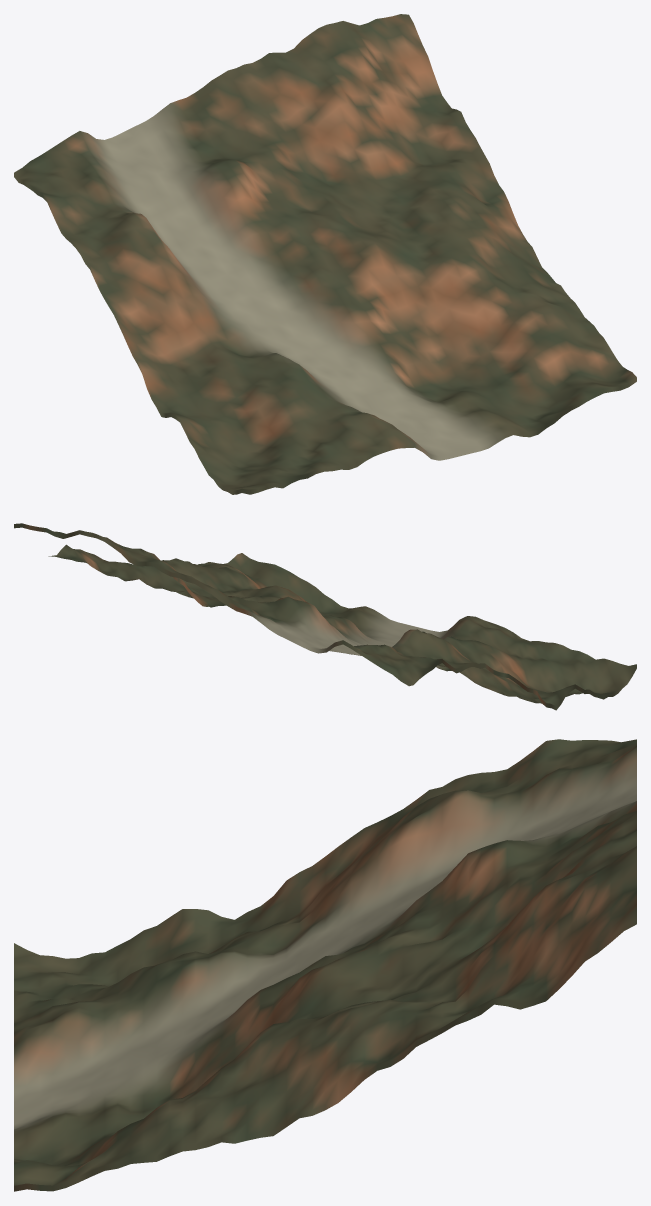
The model's file is terrain-070.glb.
3 views of the same model, one above another, from view 1: azimuth 30°, elevation 25°; view 2: azimuth 150°, elevation 25°; view 3: azimuth 270°, elevation 25° (orthographic). The views are drawn at different scales.
Visible parts, largest first — view 1: terrain-070; view 2: terrain-070; view 3: terrain-070.
Part boxes in pixels (left/top/right/bottom): terrain-070: left=14, top=14, right=636, bottom=494; terrain-070: left=14, top=523, right=636, bottom=710; terrain-070: left=14, top=739, right=636, bottom=1191.
Size of the model in its own units: 384 by 225 by 384.
